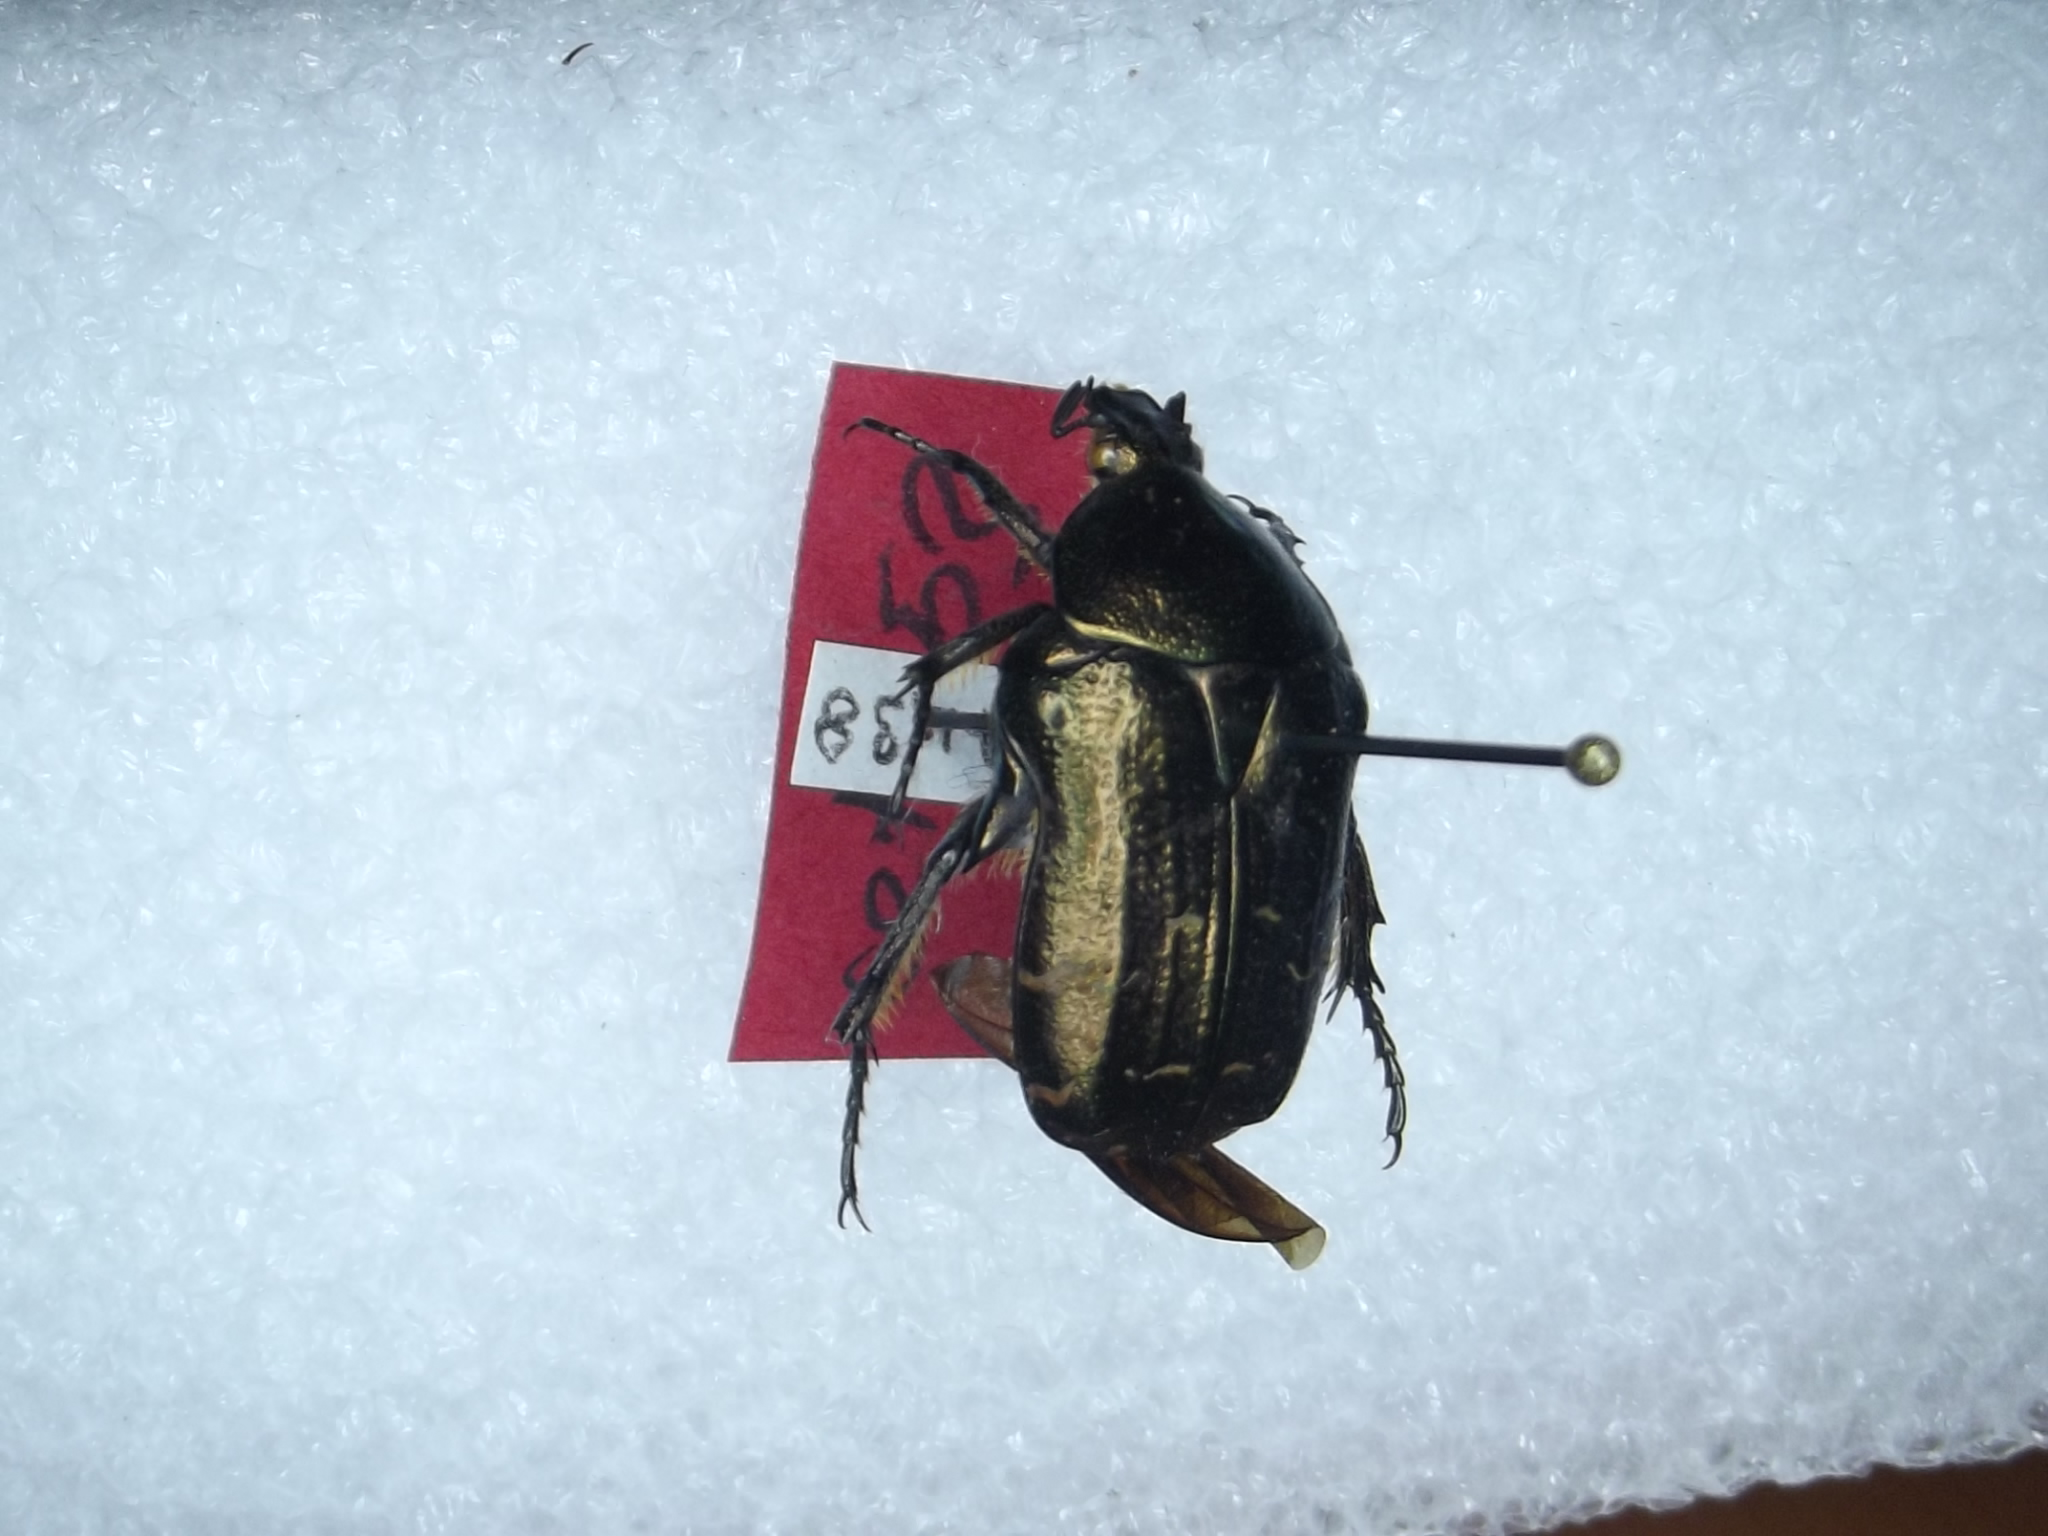Cetonia_kemali: (822, 358, 1430, 1289)
